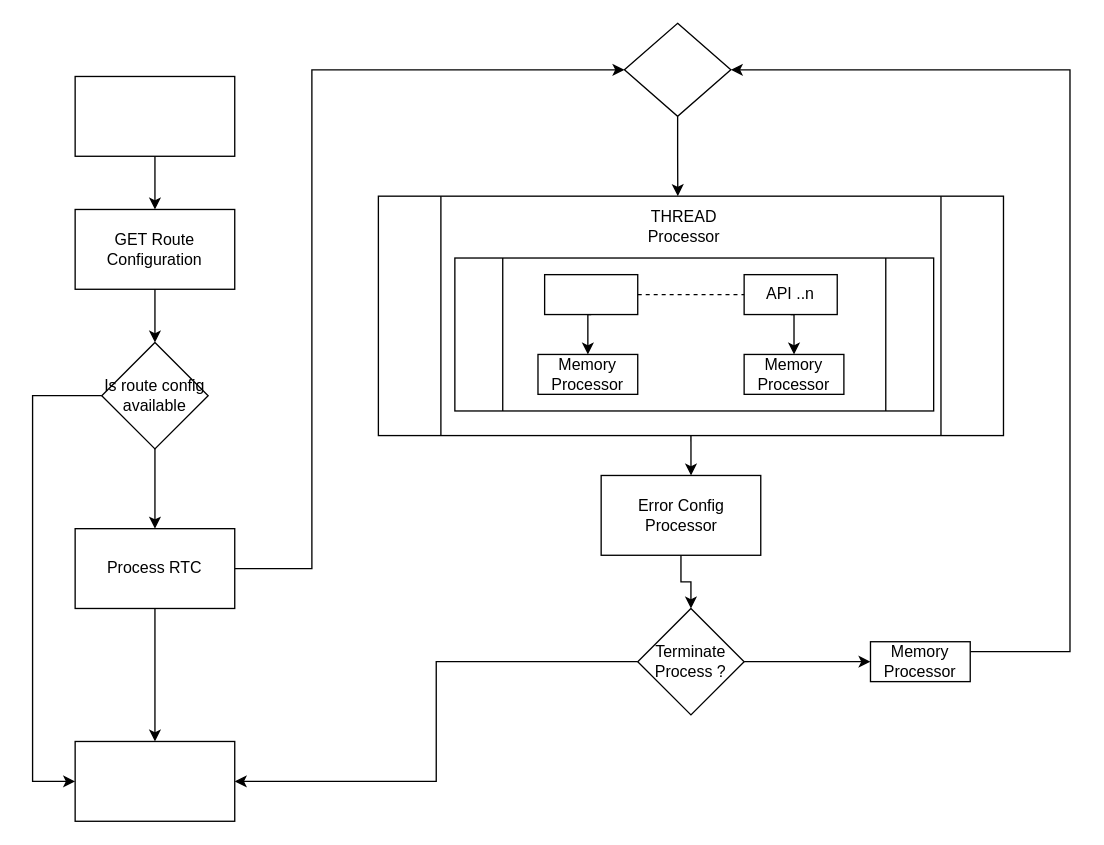
Image size: 1104x845. Some labels were removed from this diagram. Here are the shapes that lost their labels. From the top down, the centre of each, then its label:
the point at 677,69: Next Thread ?
the point at 154,115: Request with Route ID
the point at 590,294: API ..1
the point at 154,780: END Request
